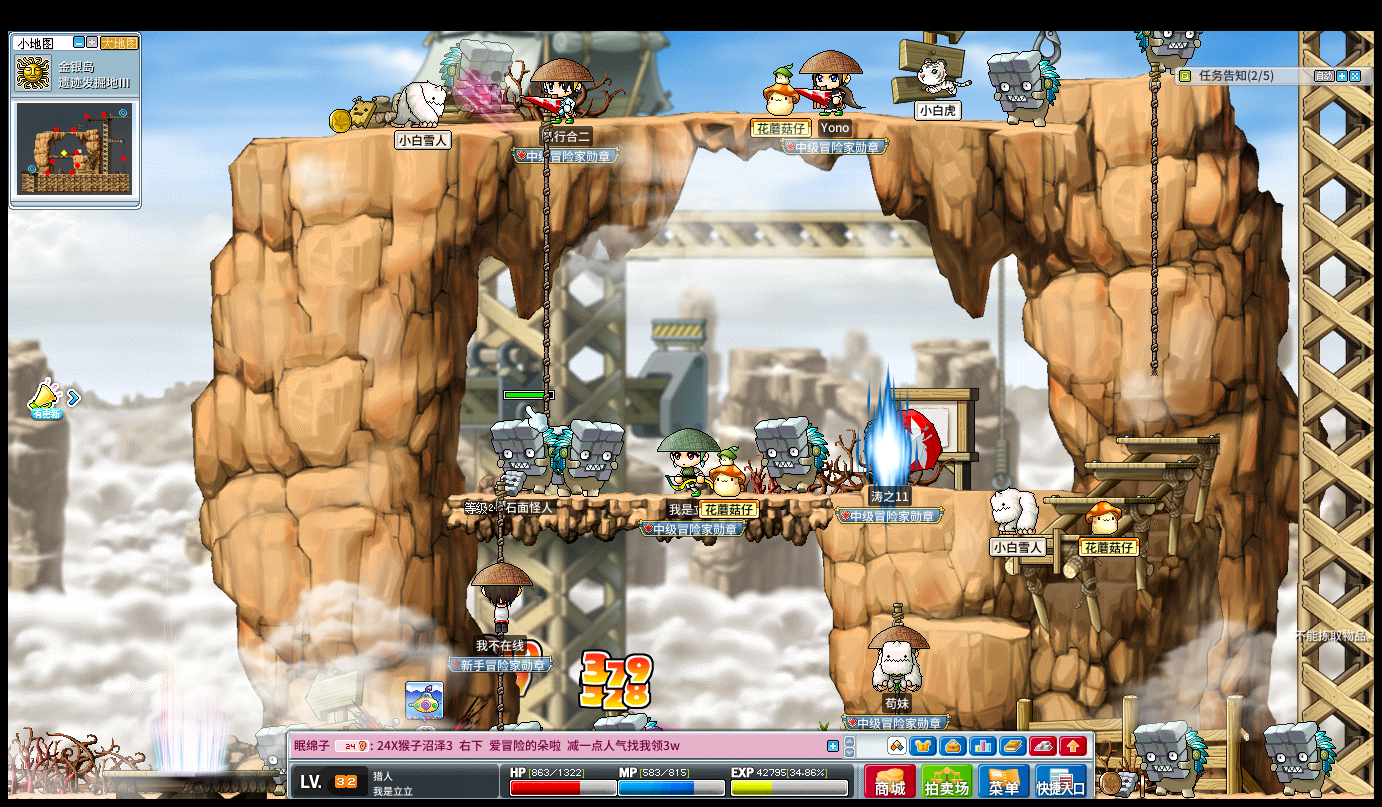floor: (220, 109, 1109, 143), (445, 491, 844, 505), (451, 490, 784, 502), (923, 617, 1030, 637), (1060, 72, 1161, 88), (942, 486, 1080, 497), (993, 530, 1145, 539), (1115, 435, 1221, 447), (1079, 460, 1196, 469), (1043, 495, 1159, 503)
monster: (440, 36, 513, 121), (986, 49, 1060, 126), (755, 417, 829, 494), (554, 419, 625, 496), (1263, 722, 1337, 794), (488, 417, 557, 494), (1135, 721, 1207, 794)
rope: (1147, 52, 1161, 377), (539, 115, 551, 425), (492, 488, 505, 562), (497, 671, 506, 724)
